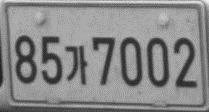0: (146, 36, 169, 87), (119, 36, 142, 86)
2: (173, 36, 197, 88)
5: (40, 35, 62, 84)
7: (91, 36, 115, 85)
8: (14, 34, 37, 83)
가: (63, 44, 88, 85)
